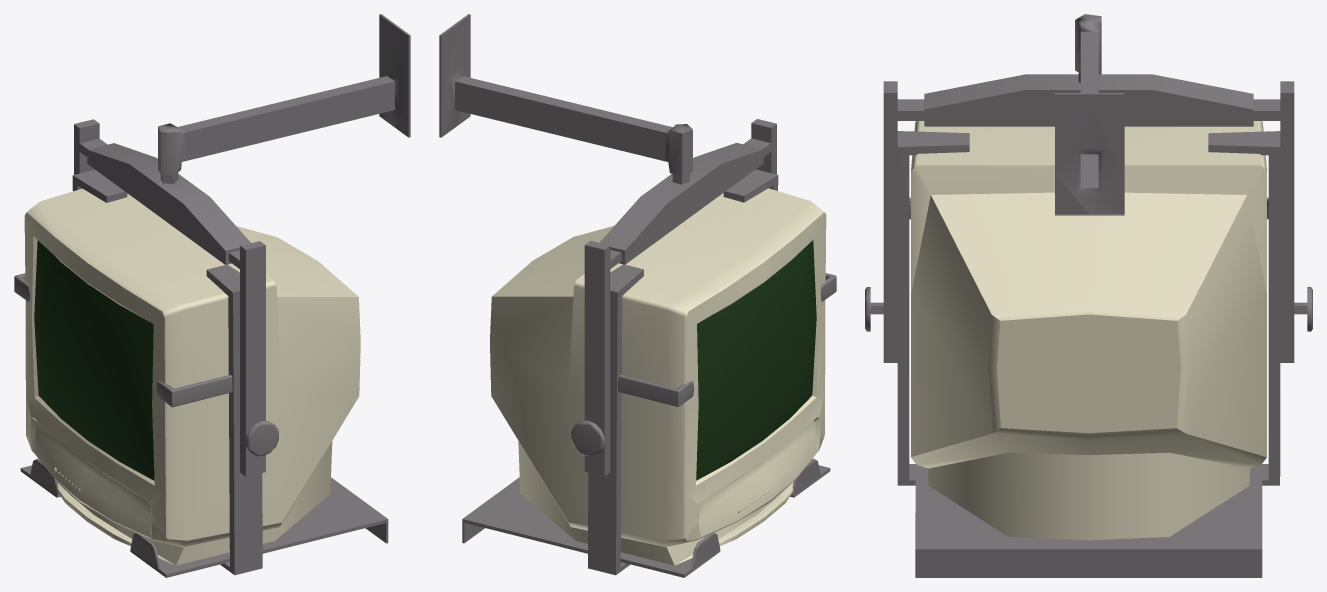
Rendered from Wall_Brace_OfficeTV.fbx.
The picture shows the model from 3 angles, left to right: view 1: azimuth 30°, elevation 25°; view 2: azimuth 150°, elevation 25°; view 3: azimuth 270°, elevation 25°; orthographic projection. The views are drawn at different scales.
Visible parts, largest first — view 1: Television, WallMount_Horizontal, Wall_Brace_OfficeTV; view 2: Television, WallMount_Horizontal, Wall_Brace_OfficeTV; view 3: Television, WallMount_Horizontal, Wall_Brace_OfficeTV.
Part boxes in pixels (left/top/right/bottom): Television: left=14, top=169, right=388, bottom=577; WallMount_Horizontal: left=74, top=119, right=278, bottom=476; Wall_Brace_OfficeTV: left=158, top=14, right=410, bottom=183; Television: left=462, top=169, right=836, bottom=577; WallMount_Horizontal: left=571, top=119, right=776, bottom=476; Wall_Brace_OfficeTV: left=439, top=14, right=692, bottom=184; Television: left=897, top=121, right=1280, bottom=577; WallMount_Horizontal: left=865, top=74, right=1312, bottom=362; Wall_Brace_OfficeTV: left=1055, top=14, right=1124, bottom=215.
Size of the model in its own units: 111 by 149 by 114.
